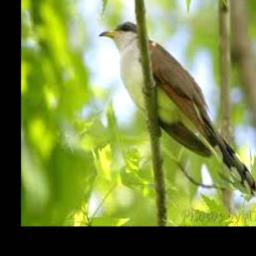Cuckoo: (98, 21, 256, 193)
